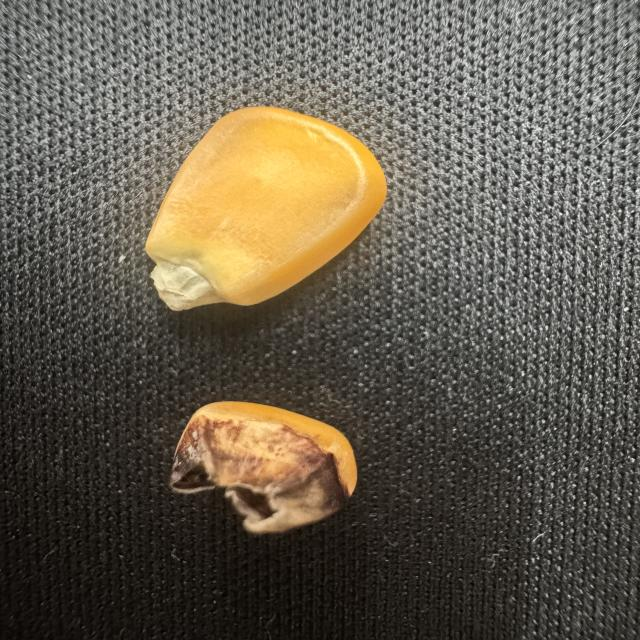Bad-Seed: (155, 394, 380, 542)
Good-Seed: (138, 97, 394, 317)
